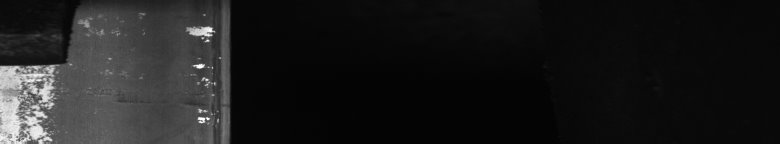kb: (4, 13, 220, 136)
